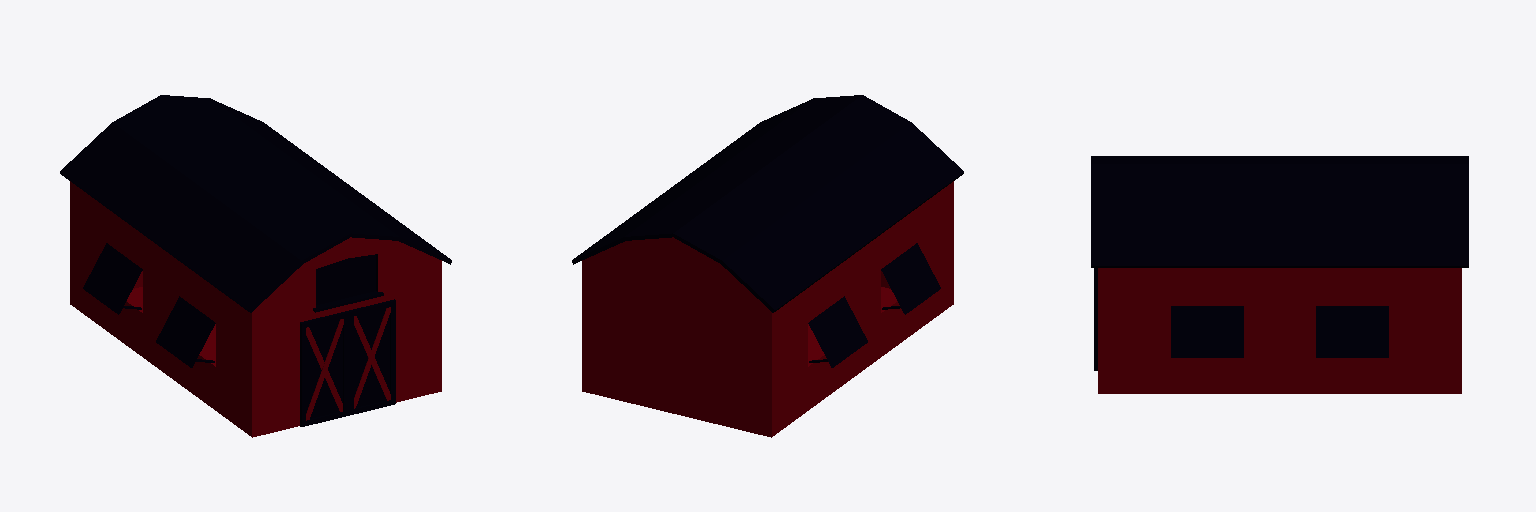
The model's file is building_etable.obj.
The picture shows the model from 3 angles: view 1: azimuth 30°, elevation 25°; view 2: azimuth 150°, elevation 25°; view 3: azimuth 270°, elevation 25°; orthographic projection.
Visible parts, largest first — view 1: Cube, Cube.001, Cube.002_Cube.003; view 2: Cube, Cube.001; view 3: Cube, Cube.001.
Part boxes in pixels (x1,y1,x2,y2): Cube: (70,181,441,437); Cube.001: (60,95,451,312); Cube.002_Cube.003: (300,299,395,426); Cube: (582,181,953,437); Cube.001: (572,95,963,312); Cube: (1098,268,1461,393); Cube.001: (1091,156,1468,267).
Size of the model in its own units: 7.52 by 5.56 by 10.38.